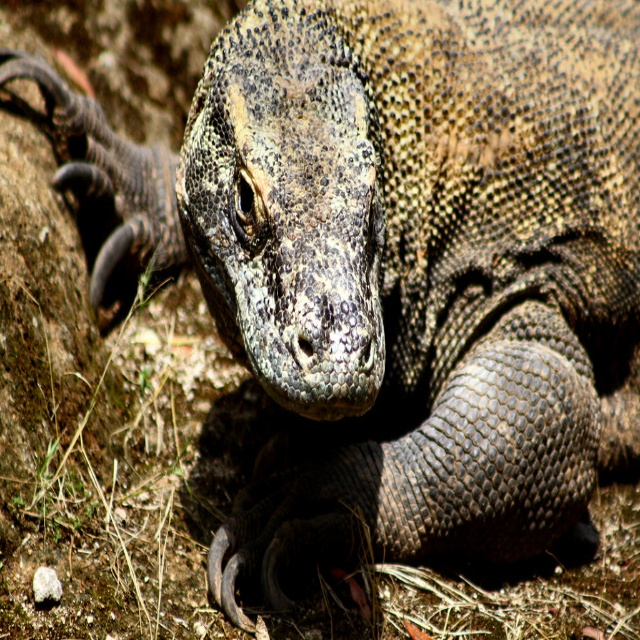Lizard: (0, 19, 640, 632)
